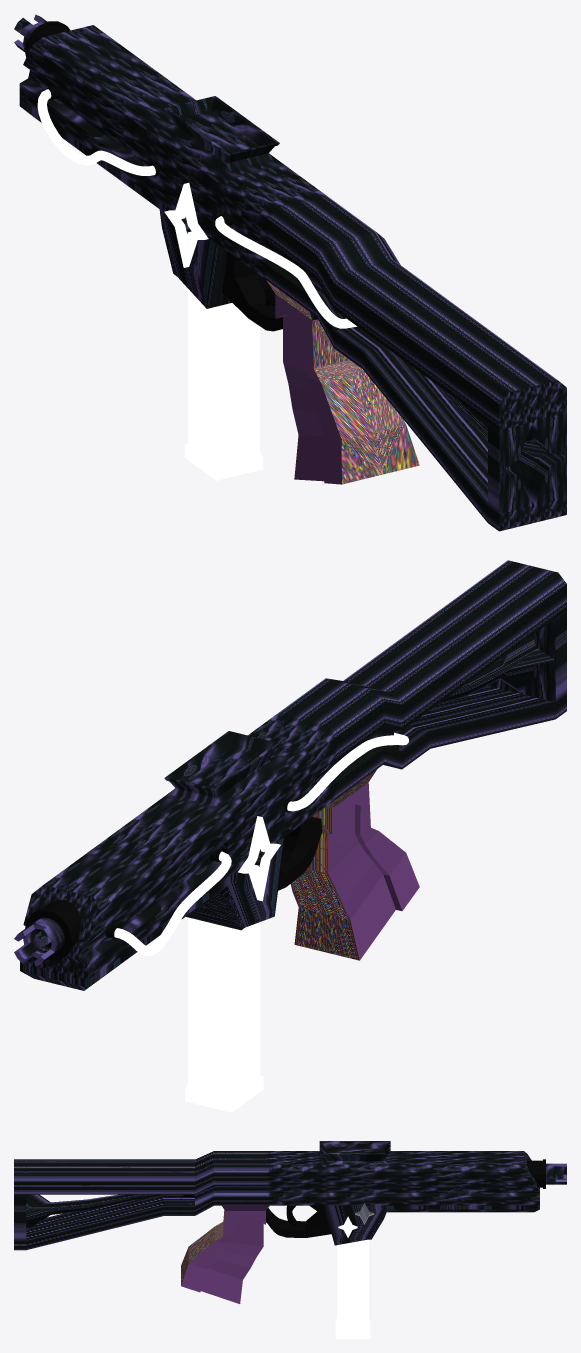
The model's file is Metralhadora (1).glb.
3 views of the same model, one above another, from view 1: azimuth 30°, elevation 25°; view 2: azimuth 150°, elevation 25°; view 3: azimuth 270°, elevation 25° (orthographic). The views are drawn at different scales.
Visible parts, largest first — view 1: METS.004, METS.001, segurin, BézierCurve.001, BézierCurve, uir; view 2: METS.004, METS.001, segurin, BézierCurve, Cylinder.001, BézierCurve.001, uir, Cylinder.002; view 3: METS.004, METS.001, segurin, Cylinder.001, Cylinder.002.
Boxes of the visible parts, x1,y1,x2,y2 form: METS.004: (19,25,566,531); METS.001: (184,289,263,480); segurin: (222,251,282,331); BézierCurve.001: (215,216,356,328); BézierCurve: (37,89,155,175); uir: (164,182,208,267); METS.004: (20,560,566,990); METS.001: (185,917,263,1112); segurin: (278,817,322,890); BézierCurve: (114,851,231,956); Cylinder.001: (14,917,64,966); BézierCurve.001: (287,732,408,811); uir: (238,816,280,901); Cylinder.002: (25,900,80,960); METS.004: (14,1141,539,1303); METS.001: (335,1239,370,1338); segurin: (266,1205,331,1237); Cylinder.001: (546,1163,566,1184); Cylinder.002: (526,1159,545,1188).
Size of the model in its own units: 0.1571 by 0.5591 by 1.52.
9 materials, 2 textured.
